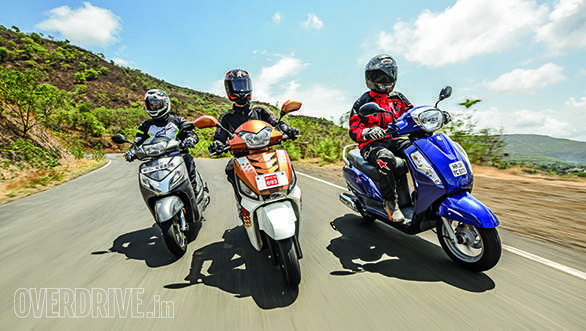helmet: (144, 87, 174, 119), (223, 71, 253, 103), (367, 54, 397, 86)
